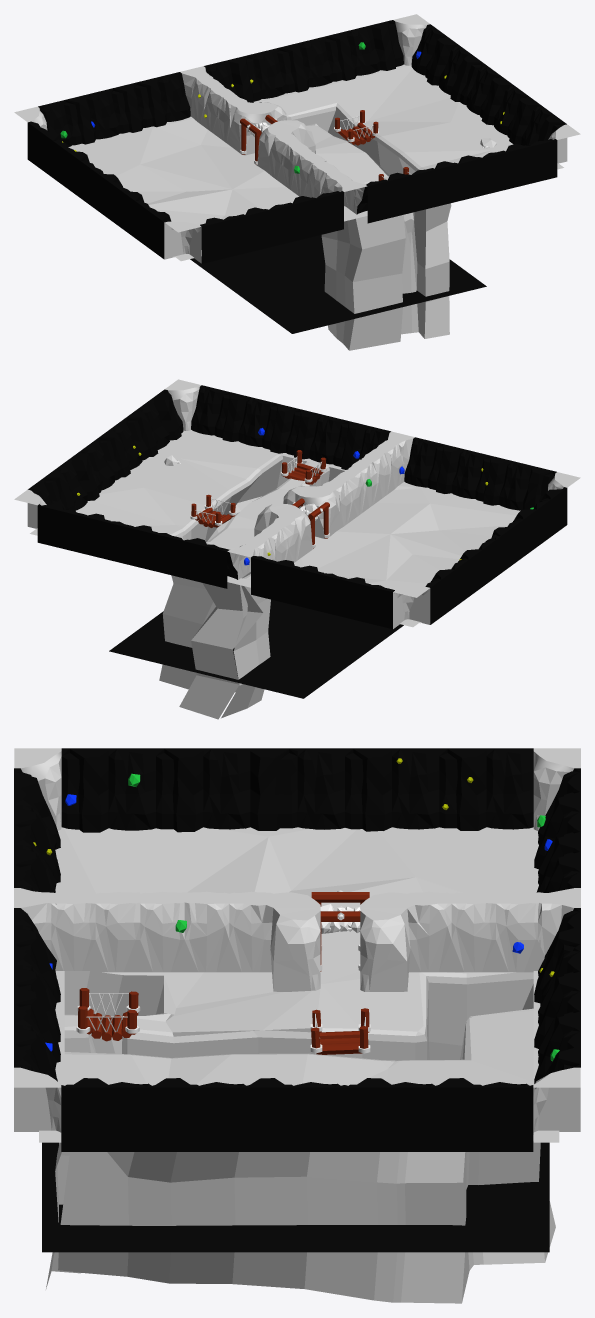
The model's file is Nivel_02.fbx.
3 views of the same model, one above another, from view 1: azimuth 30°, elevation 25°; view 2: azimuth 150°, elevation 25°; view 3: azimuth 270°, elevation 25° (orthographic). The views are drawn at different scales.
Visible parts, largest first — view 1: Plane038, Object012, Plane039, Cylinder202, Cylinder216; view 2: Plane038, Object012, Plane039, Cylinder205, Cylinder202, Cylinder216; view 3: Plane038, Object012, Plane039, Cylinder205, Cylinder202, Cylinder216.
Boxes of the visible parts, x1,y1,x2,y2 form: Plane038: [14, 14, 580, 263]; Object012: [69, 65, 513, 350]; Plane039: [190, 235, 486, 333]; Cylinder202: [335, 110, 378, 145]; Cylinder216: [240, 114, 277, 164]; Plane038: [14, 379, 580, 629]; Object012: [76, 431, 518, 719]; Plane039: [109, 599, 403, 698]; Cylinder205: [282, 450, 326, 484]; Cylinder202: [191, 494, 235, 527]; Cylinder216: [292, 498, 329, 548]; Plane038: [14, 748, 580, 1151]; Object012: [46, 827, 555, 1303]; Plane039: [42, 1142, 549, 1252]; Cylinder205: [78, 988, 138, 1041]; Cylinder202: [311, 1008, 369, 1054]; Cylinder216: [311, 892, 369, 971].
Bounding box in the file's own units: 858 × 369 × 606.
